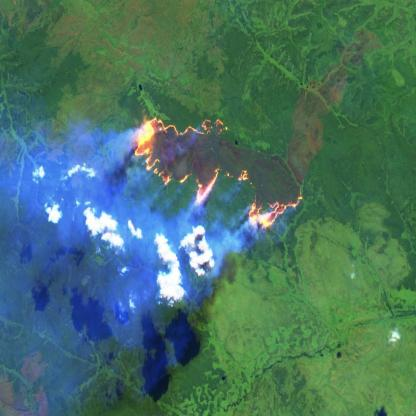fire: (129, 115, 306, 233)
